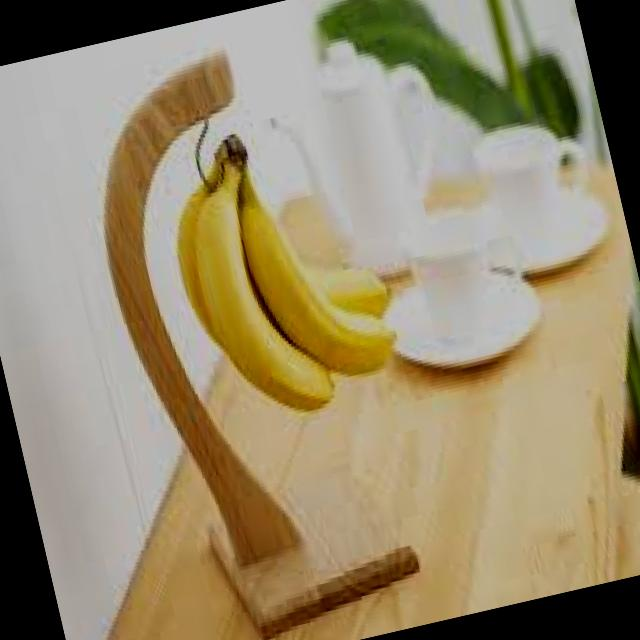Banana: (154, 110, 413, 432)
